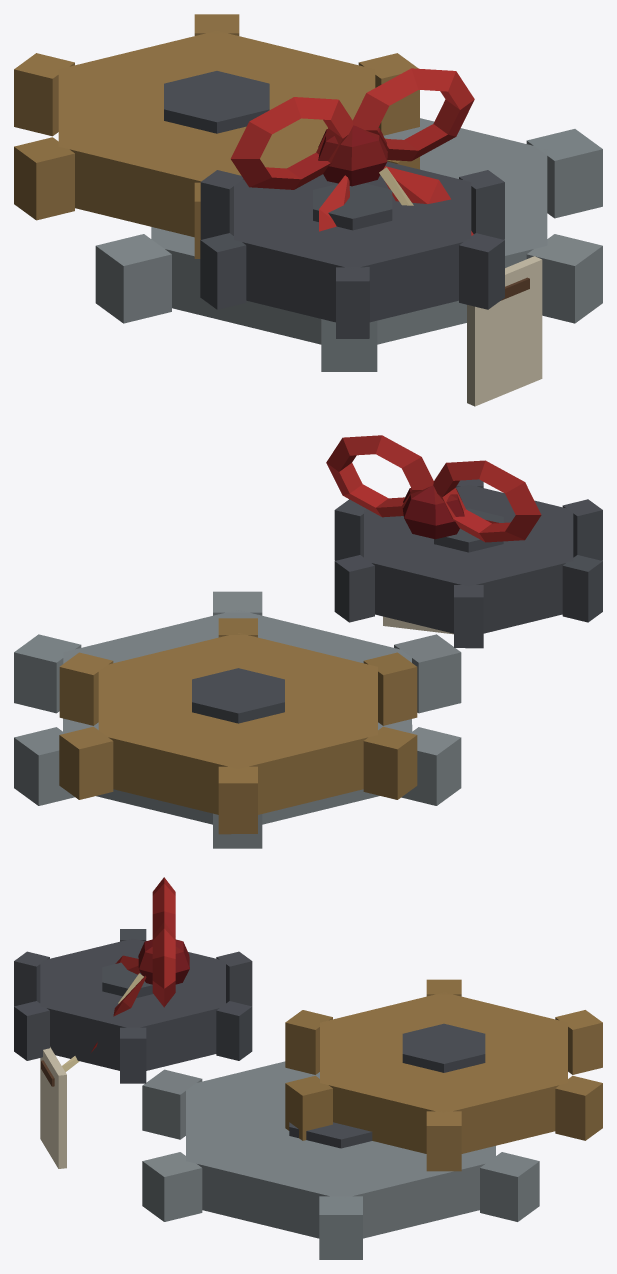
Rendered from quest_gears.glb.
3 renders of one model, top to bottom at view 1: azimuth 30°, elevation 25°; view 2: azimuth 150°, elevation 25°; view 3: azimuth 270°, elevation 25°, orthographic. The views are drawn at different scales.
Parts seen in each view (by area): view 1: quest_gears; view 2: quest_gears; view 3: quest_gears.
Boxes of the visible parts, x1,y1,x2,y2 form: quest_gears: [14, 14, 602, 406]; quest_gears: [14, 435, 602, 848]; quest_gears: [14, 877, 602, 1259].
Size of the model in its own units: 0.3149 by 0.1687 by 0.4.
